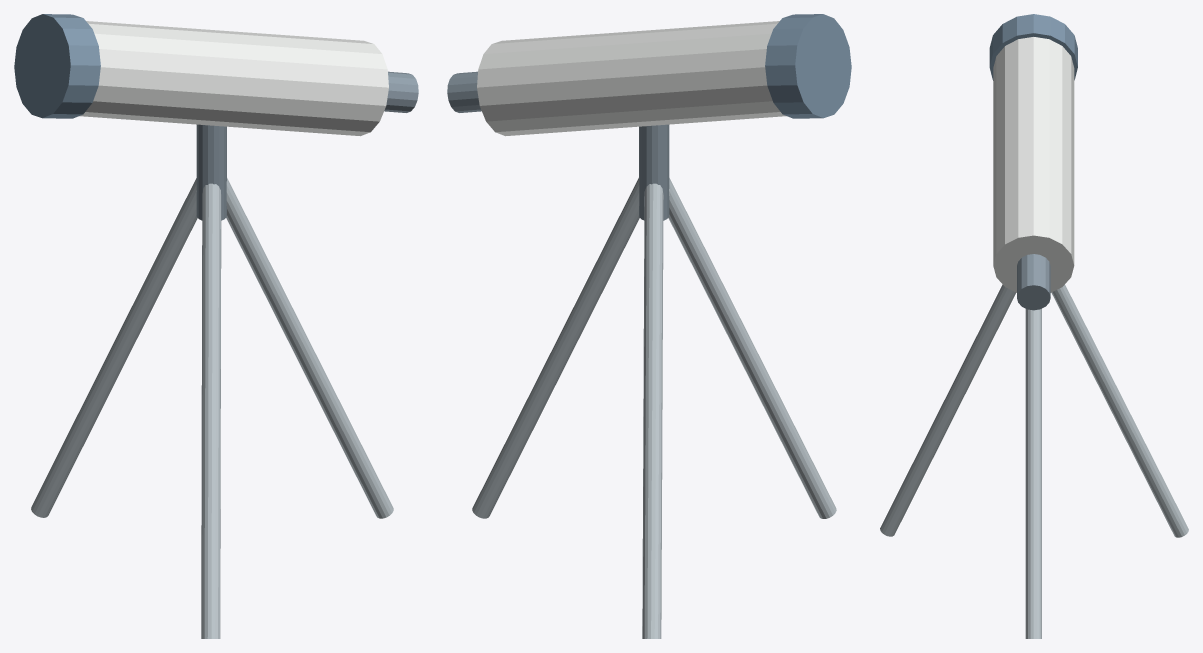
File: school_telescope.glb
3 views of the same model, side by side, from view 1: azimuth 30°, elevation 25°; view 2: azimuth 150°, elevation 25°; view 3: azimuth 270°, elevation 25° (orthographic). The views are drawn at different scales.
Parts seen in each view (by area): view 1: decor_d8dcd8_matte, decor_9aadb8_metal, decor_354d66_matte, decor_455665_metal; view 2: decor_d8dcd8_matte, decor_9aadb8_metal, decor_354d66_matte, decor_455665_metal; view 3: decor_d8dcd8_matte, decor_9aadb8_metal, decor_354d66_matte, decor_455665_metal.
Boxes of the visible parts, bbox=[...] form: decor_d8dcd8_matte: bbox=[79, 21, 388, 136]; decor_9aadb8_metal: bbox=[31, 178, 393, 638]; decor_354d66_matte: bbox=[14, 14, 100, 118]; decor_455665_metal: bbox=[196, 71, 418, 220]; decor_d8dcd8_matte: bbox=[477, 21, 786, 136]; decor_9aadb8_metal: bbox=[472, 178, 836, 638]; decor_354d66_matte: bbox=[765, 14, 851, 118]; decor_455665_metal: bbox=[447, 71, 669, 220]; decor_d8dcd8_matte: bbox=[993, 37, 1074, 292]; decor_9aadb8_metal: bbox=[880, 284, 1188, 638]; decor_354d66_matte: bbox=[989, 14, 1077, 80]; decor_455665_metal: bbox=[1017, 254, 1050, 310].
Size of the model in its own units: 1.01 by 1.47 by 0.8387.
